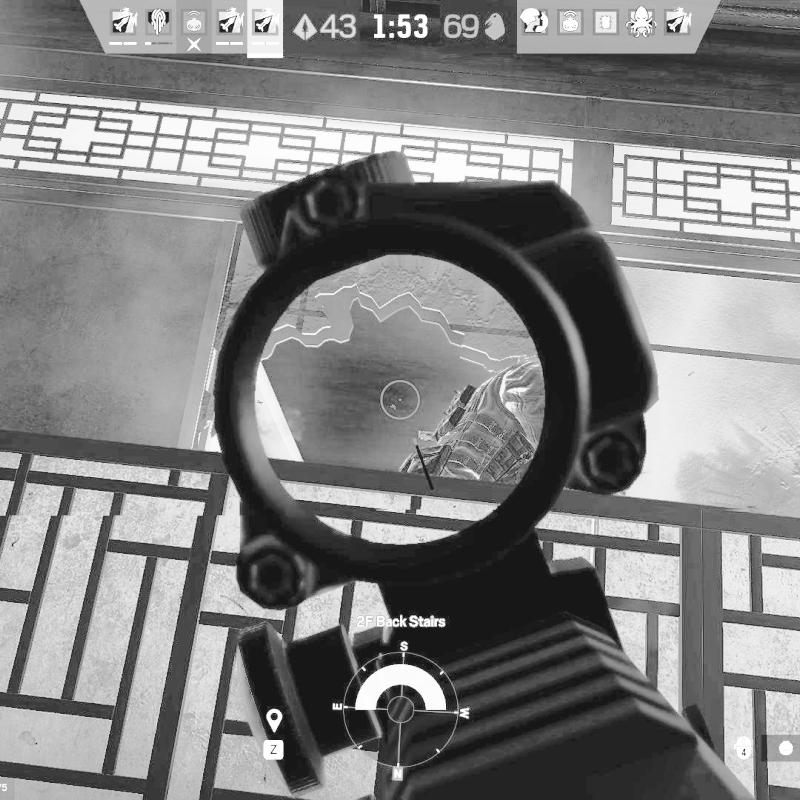Character: (395, 354, 548, 488)
